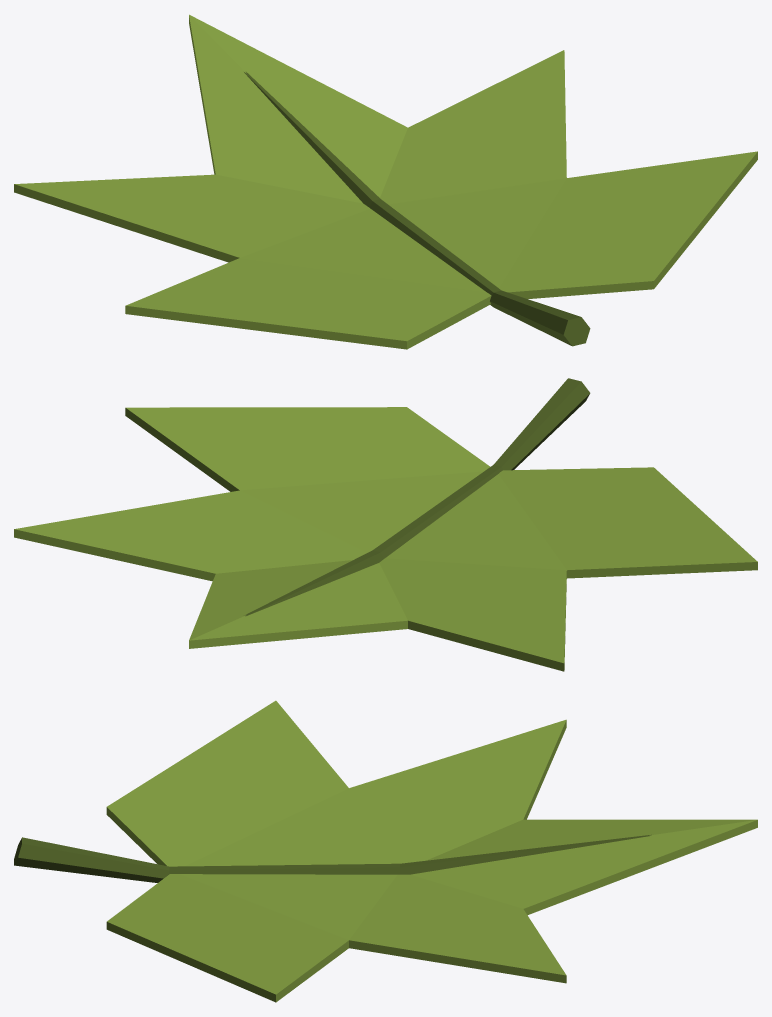
Rendered from Leaf.fbx.
The picture shows the model from 3 angles, top to bottom: view 1: azimuth 30°, elevation 25°; view 2: azimuth 150°, elevation 25°; view 3: azimuth 270°, elevation 25°; orthographic projection. The views are drawn at different scales.
Parts seen in each view (by area): view 1: Leaf; view 2: Leaf; view 3: Leaf.
Part boxes in pixels (x1,y1,x2,y2): Leaf: (14,14,757,349); Leaf: (14,378,757,671); Leaf: (14,700,757,1002).
Bounding box in the file's own units: 14.67 × 1.46 × 15.68.
